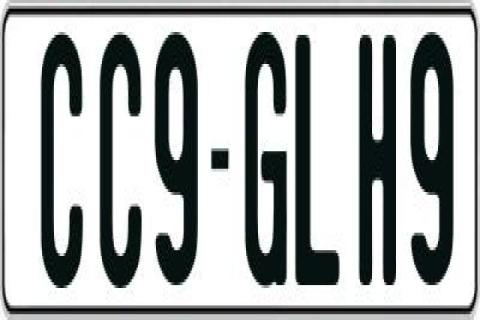0: (408, 27, 454, 280), (152, 29, 194, 282)
C: (39, 26, 86, 291), (98, 26, 142, 288)
G: (244, 29, 292, 282)
H: (358, 27, 400, 280)
L: (296, 29, 348, 279)
